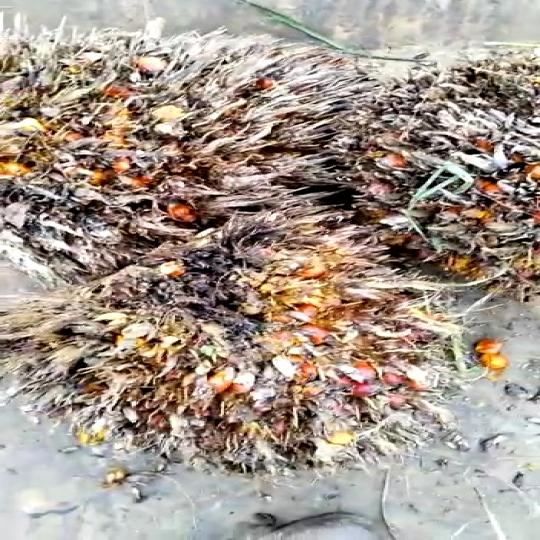terlalu masak: (0, 246, 460, 453), (0, 42, 334, 242)
